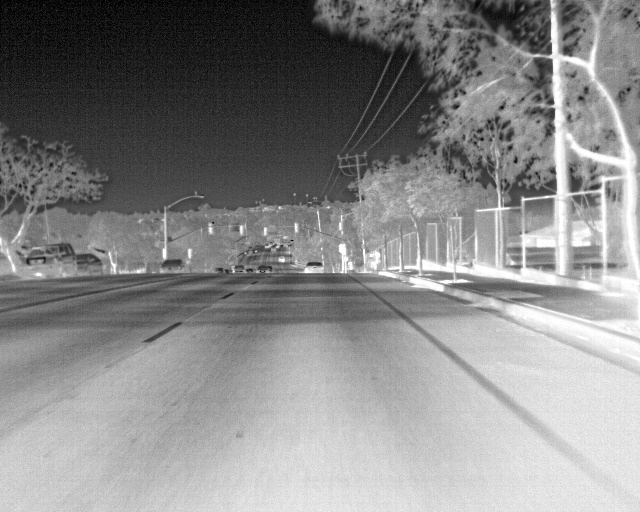vehicle: (29, 240, 75, 283), (72, 252, 106, 278), (303, 260, 328, 275)
